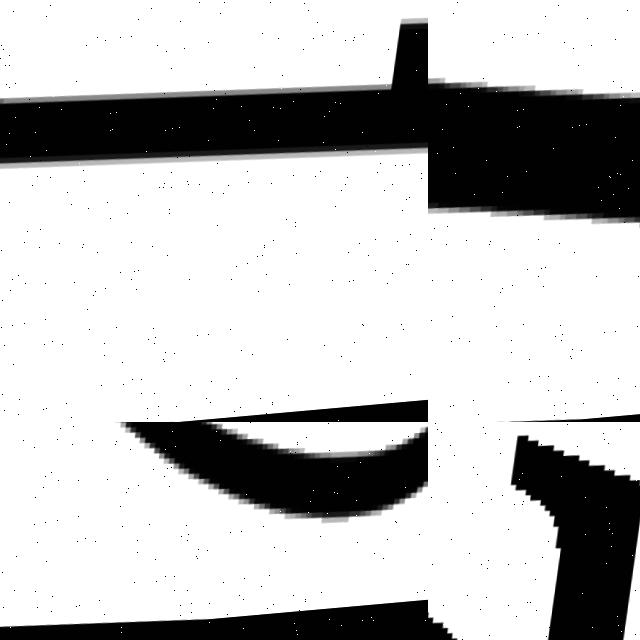1: (428, 0, 640, 295)
7: (428, 422, 640, 640)
9: (0, 422, 428, 566)
L: (0, 0, 428, 291)
